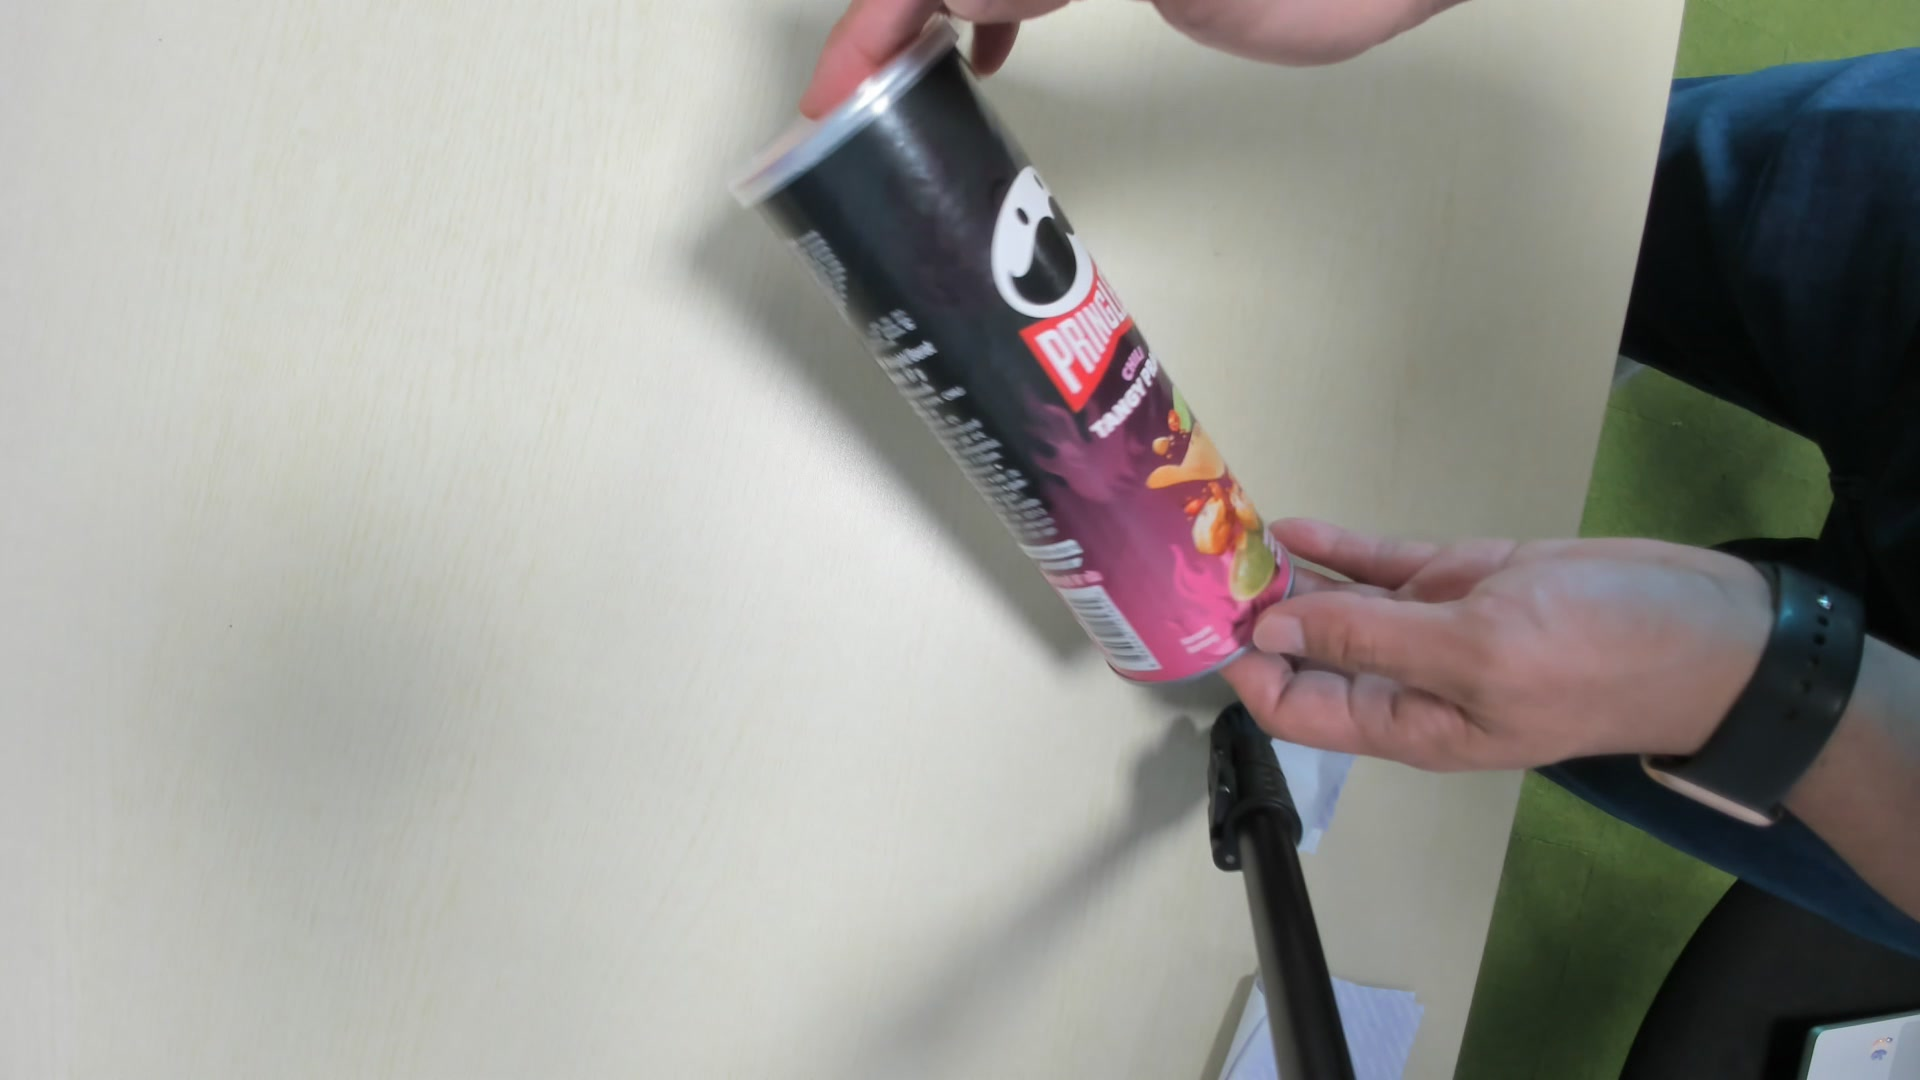PotatoChipsKeropok_0-99g_NonHalal_NonHealthy: (723, 28, 1305, 702)
